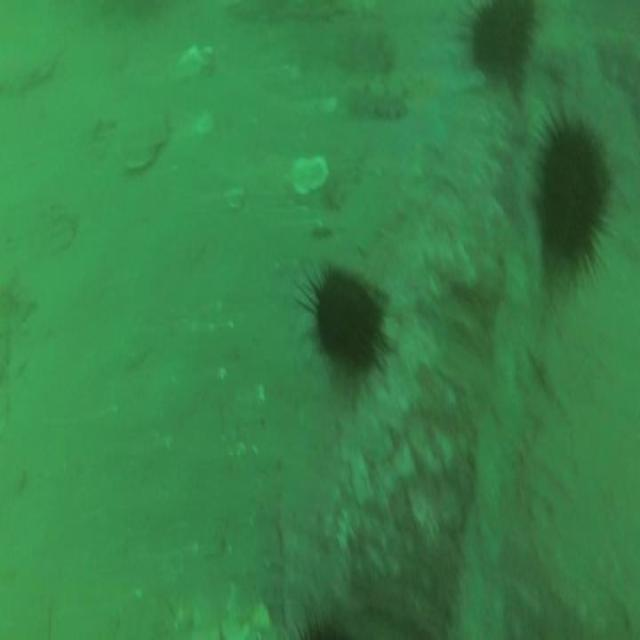echinus: (540, 125, 608, 267), (314, 267, 382, 368), (471, 2, 535, 78)
holothurian: (348, 88, 406, 125)
